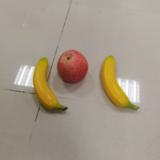apple: (58, 50, 88, 83)
